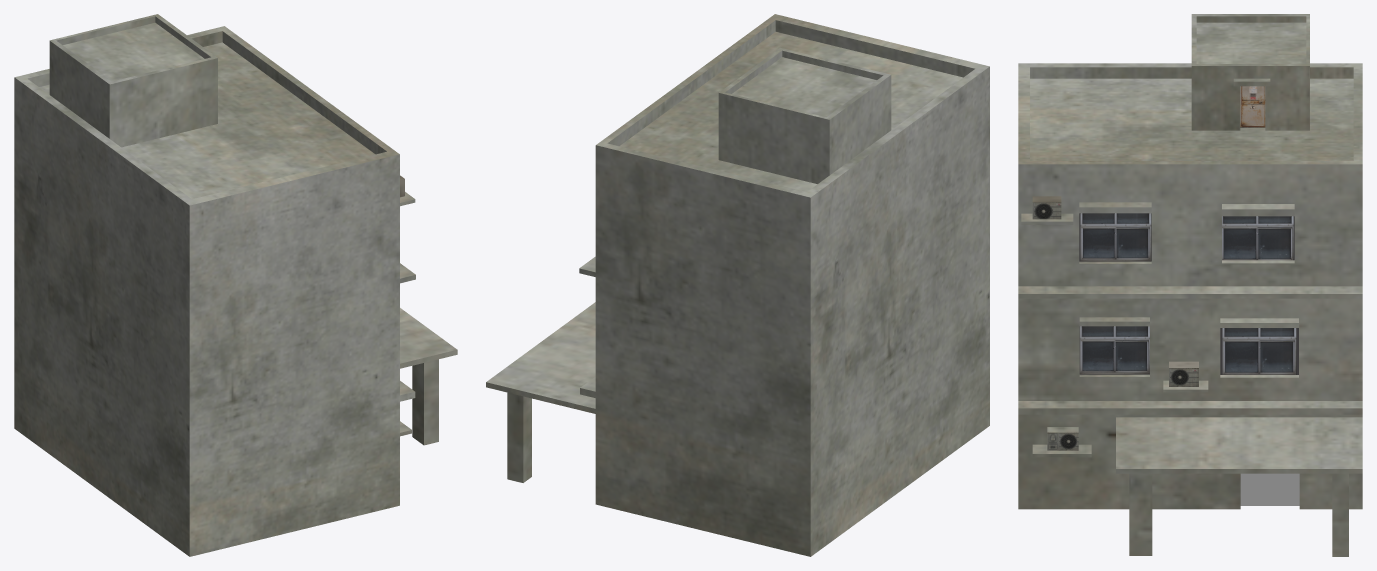
3 views of the same model, side by side, from view 1: azimuth 30°, elevation 25°; view 2: azimuth 150°, elevation 25°; view 3: azimuth 270°, elevation 25° (orthographic). The views are drawn at different scales.
Visible parts, largest first — view 1: Model; view 2: Model; view 3: Model.
Boxes of the visible parts, box(x1,y1,x2,y2) form: Model: box(14, 14, 457, 556); Model: box(486, 14, 989, 556); Model: box(1018, 14, 1362, 556).
Bounding box in the file's own units: 164 × 202 × 157.
